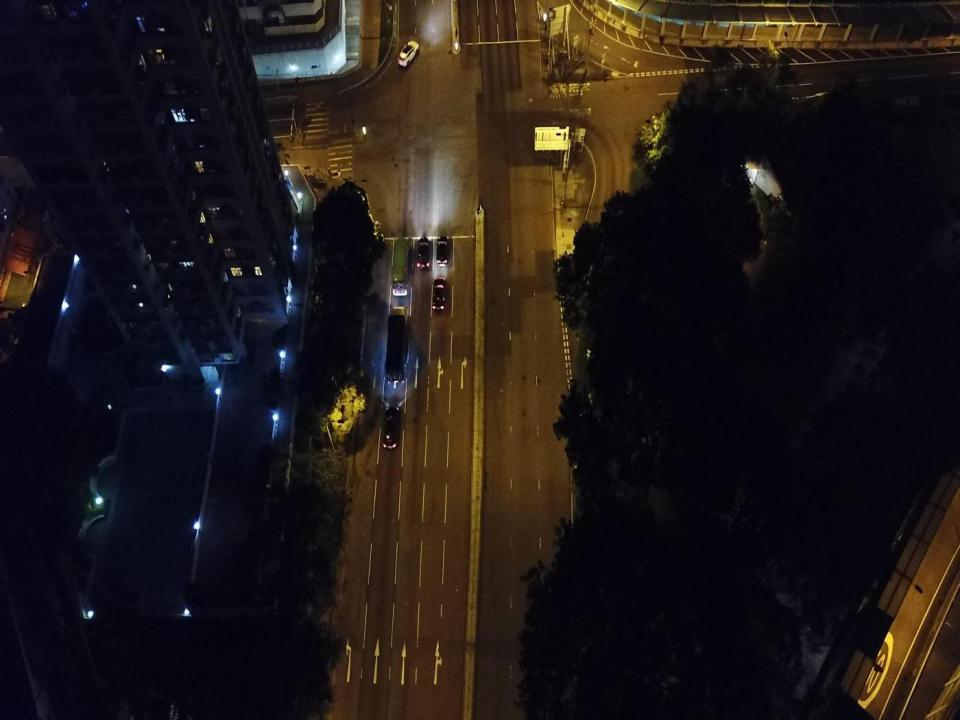bus: (392, 236, 410, 296)
car: (382, 406, 401, 450), (396, 39, 420, 68), (416, 235, 431, 270), (432, 276, 446, 311), (436, 236, 450, 267)
truck: (384, 303, 406, 384)
